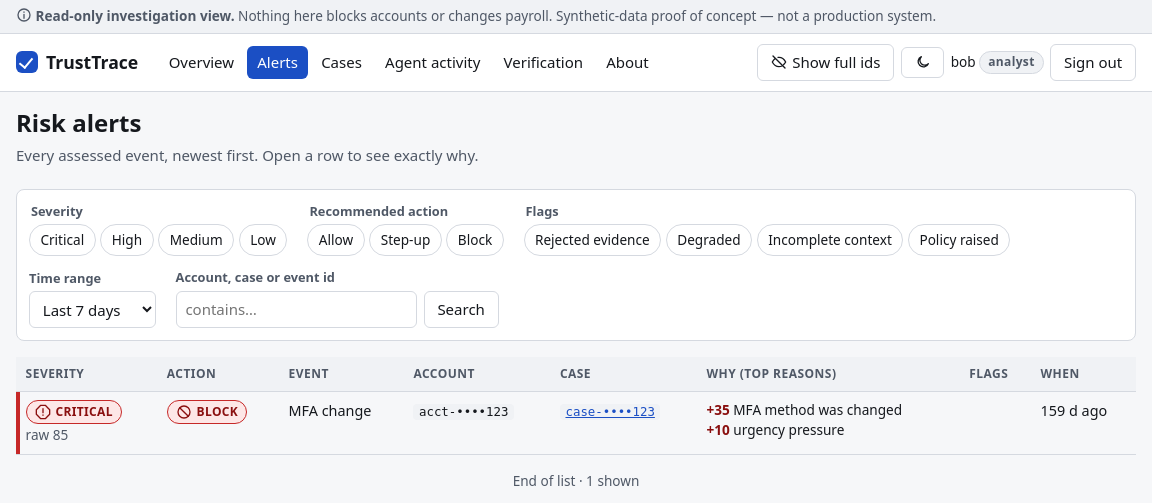
alerts queue › account ids are masked by default and the toggle reveals them
Expected: the table is shown, [16, 357, 1136, 455]
Expected: the text "acct-A1-abc123" is not shown
Click the button "Show full ids".
click(826, 62)  # box [757, 44, 894, 81]
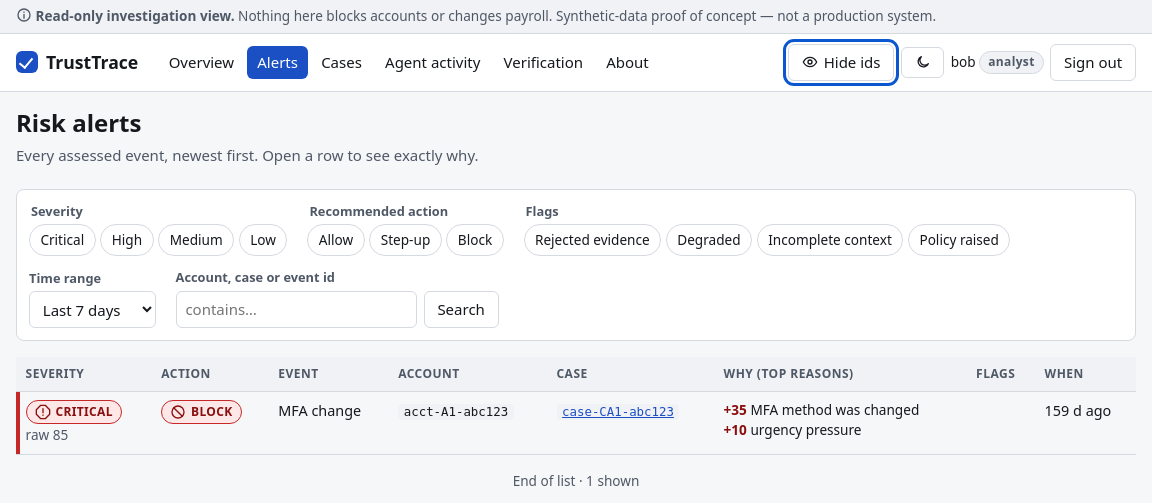
Expected: the text "acct-A1-abc123" is shown, [398, 404, 514, 420]
